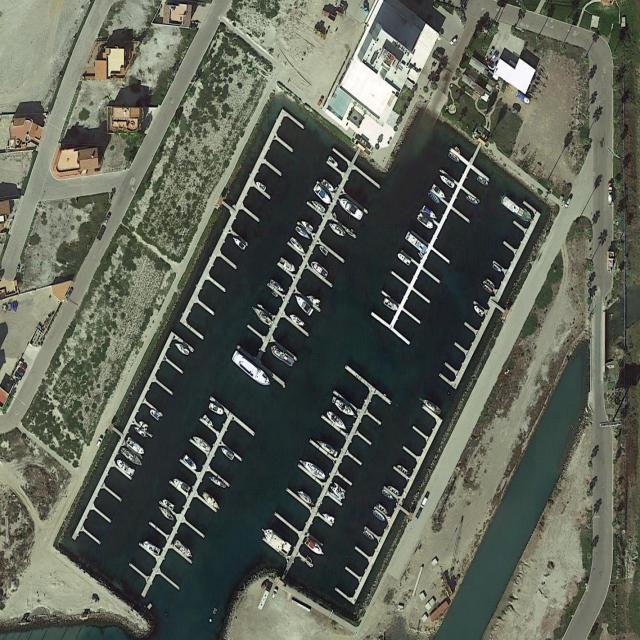large-vehicle: (257, 588, 270, 611), (607, 182, 614, 207)
ship: (230, 349, 273, 391), (500, 193, 534, 226), (260, 523, 292, 557), (337, 195, 365, 223), (298, 456, 327, 483), (269, 343, 295, 370), (331, 395, 357, 420), (120, 446, 145, 470), (325, 409, 349, 434), (405, 231, 428, 256), (250, 303, 273, 328), (418, 395, 442, 417), (293, 293, 314, 318), (316, 437, 338, 459), (304, 536, 325, 559), (173, 539, 194, 561), (313, 183, 333, 206), (201, 491, 222, 512), (126, 436, 146, 458), (296, 488, 316, 509), (192, 432, 212, 453), (310, 259, 329, 280), (115, 458, 136, 477), (329, 481, 347, 503), (416, 212, 435, 231), (142, 539, 162, 557), (289, 235, 306, 256), (328, 220, 347, 238), (279, 257, 297, 275), (158, 505, 176, 523), (172, 477, 191, 494), (208, 474, 227, 490), (431, 184, 447, 202), (182, 454, 198, 472), (383, 297, 399, 314), (422, 205, 438, 222), (295, 225, 311, 242), (174, 341, 191, 357), (515, 90, 532, 106), (269, 279, 285, 295), (288, 313, 305, 328), (439, 174, 455, 189), (311, 199, 327, 214), (397, 251, 412, 267), (321, 178, 336, 194), (232, 235, 247, 251), (220, 446, 235, 462), (208, 403, 225, 417), (427, 191, 442, 206), (306, 294, 321, 308), (133, 424, 147, 439), (381, 488, 395, 502), (373, 509, 387, 523), (466, 194, 480, 207), (447, 152, 461, 165), (301, 219, 314, 233), (362, 529, 375, 543), (321, 511, 335, 524), (202, 414, 215, 428), (477, 175, 490, 188), (387, 484, 400, 497), (376, 503, 389, 516), (162, 498, 175, 511), (149, 408, 161, 422), (482, 283, 494, 296), (397, 463, 409, 476), (138, 419, 150, 432), (328, 156, 339, 170), (255, 180, 267, 192), (473, 304, 484, 317), (492, 263, 503, 275), (485, 278, 496, 290), (319, 245, 329, 257), (453, 146, 462, 156), (271, 290, 279, 298), (418, 251, 424, 259), (332, 212, 337, 220)
small-vehicle: (362, 1, 370, 17), (103, 213, 111, 227), (564, 196, 572, 209), (420, 496, 428, 509), (271, 587, 278, 600), (449, 36, 458, 46), (260, 580, 269, 590), (434, 50, 444, 59), (415, 508, 423, 519), (17, 367, 25, 377), (14, 371, 22, 381), (67, 286, 74, 297), (96, 437, 103, 448), (19, 362, 27, 371)
